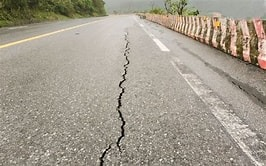ROAD_CRACK: (125, 25, 146, 166)
